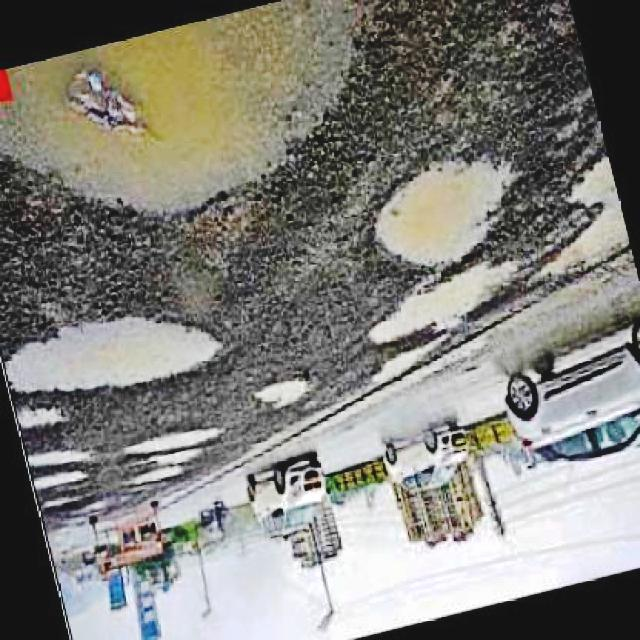pothole: (0, 0, 402, 222), (0, 308, 251, 395), (371, 147, 523, 270), (368, 249, 538, 345), (537, 151, 628, 286), (12, 443, 98, 495), (122, 422, 223, 463), (252, 372, 317, 412), (12, 404, 70, 434), (132, 463, 182, 489)
